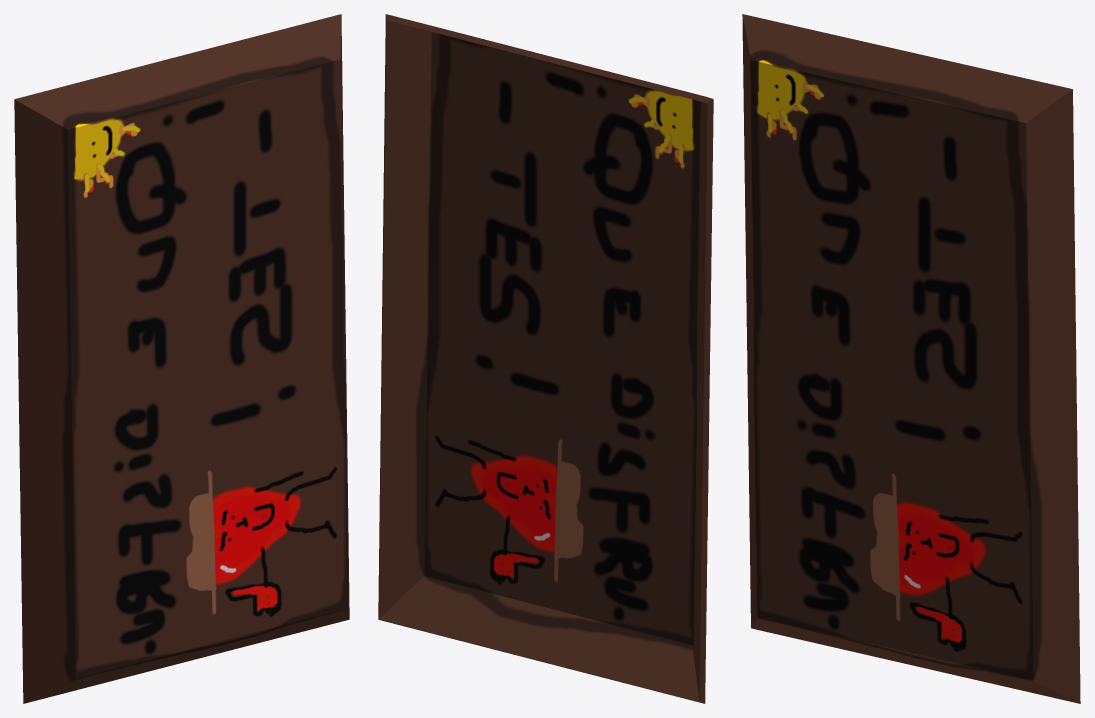
The model's file is Bandeja.fbx.
3 renders of one model, left to right at view 1: azimuth 30°, elevation 25°; view 2: azimuth 150°, elevation 25°; view 3: azimuth 330°, elevation 25°, orthographic.
Visible parts, largest first — view 1: Bandeja.002; view 2: Bandeja.002; view 3: Bandeja.002.
Part boxes in pixels (x1,y1,x2,y2): Bandeja.002: [14, 14, 349, 703]; Bandeja.002: [378, 14, 713, 703]; Bandeja.002: [742, 14, 1080, 703].
Bounding box in the file's own units: 209 × 365 × 27.33.
